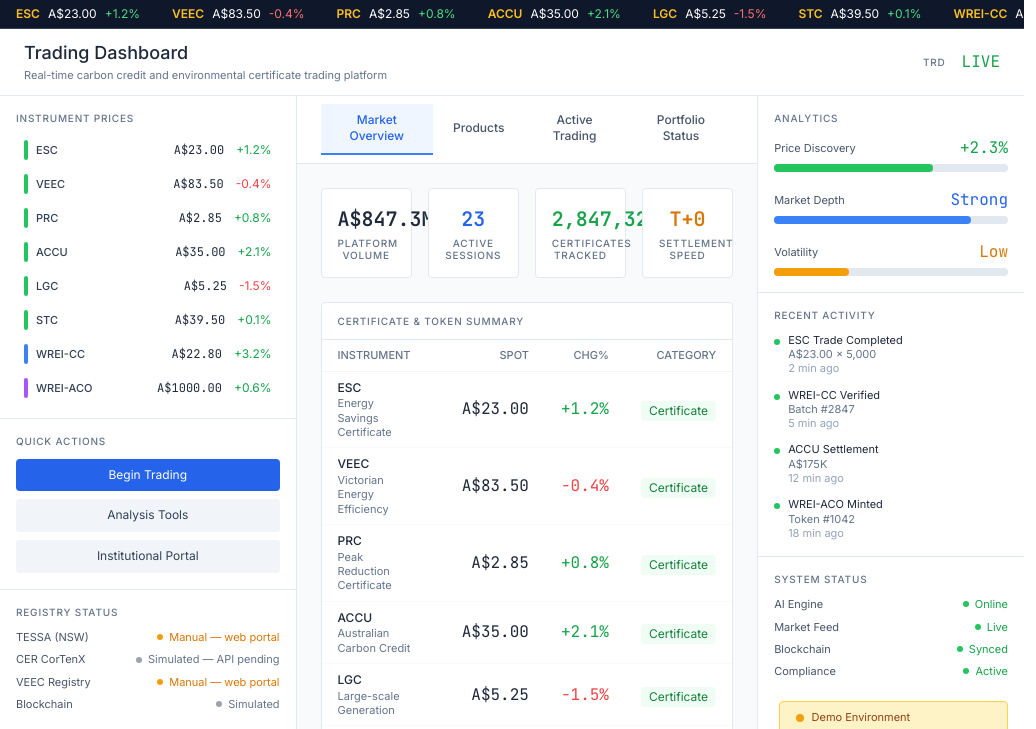
Landing Page › product cards tab shows three product cards
What coordinates should you click on to do the following:
click the button "Products"
I would click on:
 (479, 130)
Its box is left=437, top=104, right=520, bottom=155.
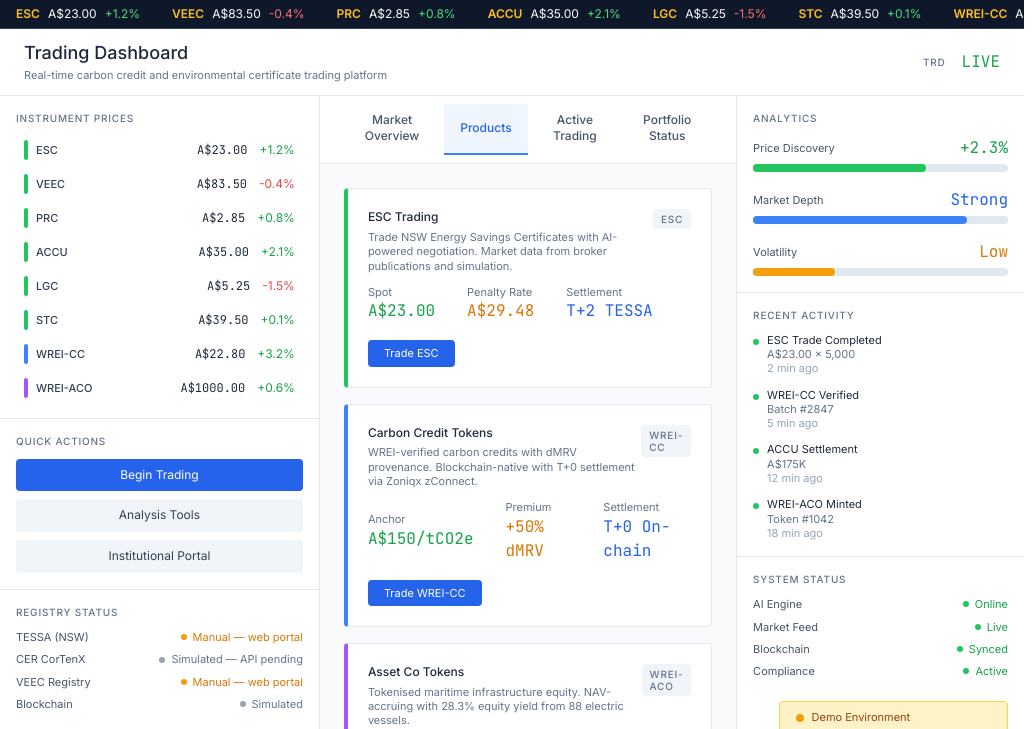
Result: the heading "ESC Trading" is shown at left=368, top=209, right=438, bottom=224
Result: the heading "Carbon Credit Tokens" is shown at left=368, top=425, right=493, bottom=440
Result: the heading "Asset Co Tokens" is shown at left=368, top=664, right=464, bottom=679
